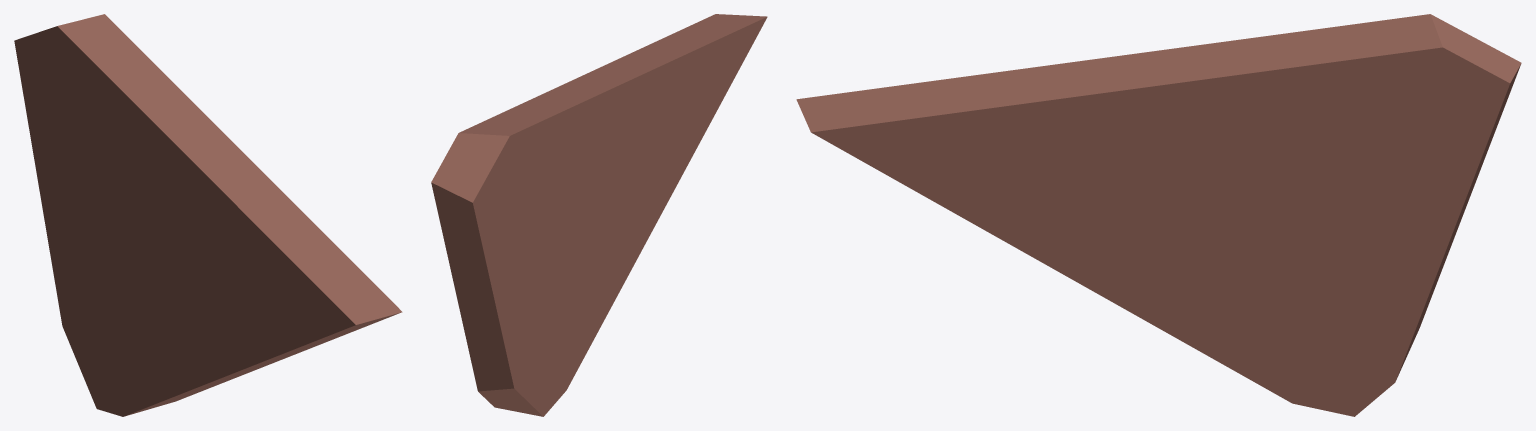
File: T_MurDetruit_6.7.fbx
3 renders of one model, left to right at view 1: azimuth 30°, elevation 25°; view 2: azimuth 150°, elevation 25°; view 3: azimuth 270°, elevation 25°, orthographic. The views are drawn at different scales.
Visible parts, largest first — view 1: T_MurDetruit_6.7; view 2: T_MurDetruit_6.7; view 3: T_MurDetruit_6.7.
Part boxes in pixels (<box>): T_MurDetruit_6.7: <box>14,14,402,416</box>; T_MurDetruit_6.7: <box>431,14,767,416</box>; T_MurDetruit_6.7: <box>796,14,1521,416</box>.
Size of the model in its own units: 13.48 by 85.09 by 149.
